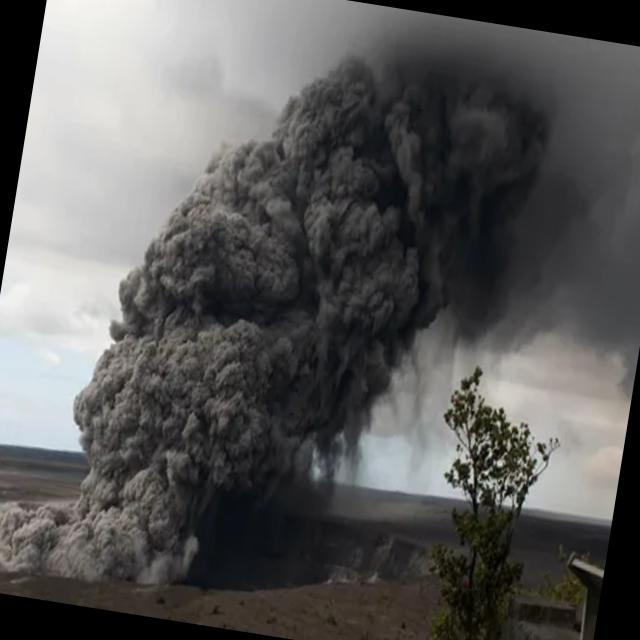Smoke: (50, 0, 556, 627)
